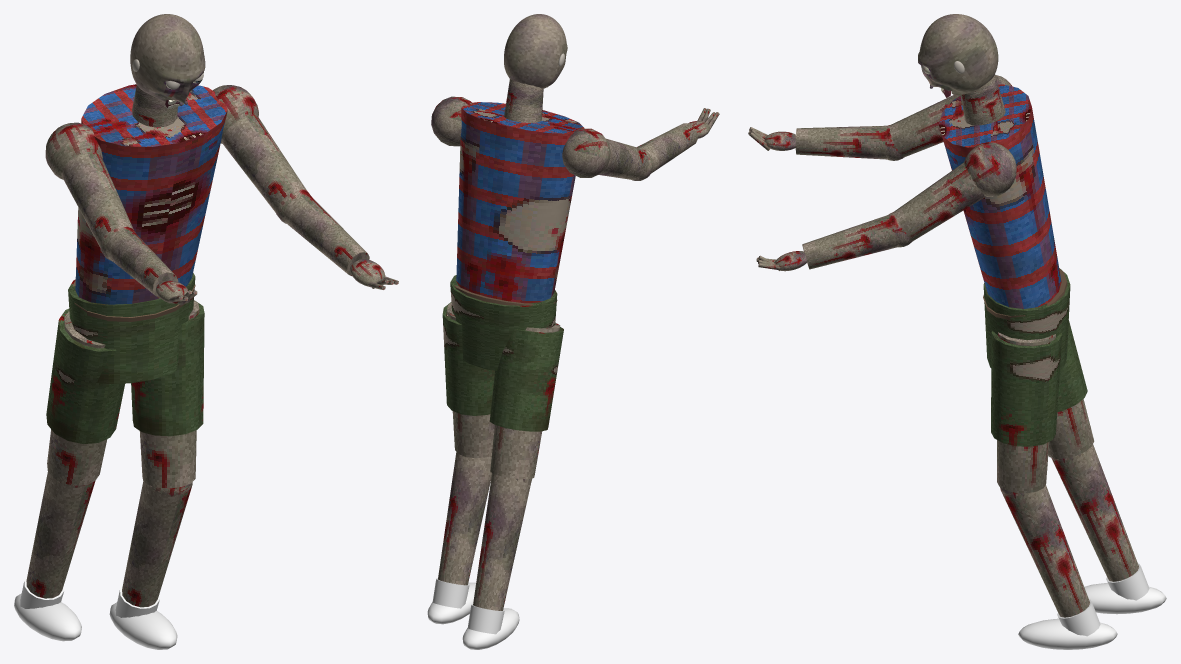
Rendered from Zombie_064.glb.
The picture shows the model from 3 angles, left to right: view 1: azimuth 30°, elevation 25°; view 2: azimuth 150°, elevation 25°; view 3: azimuth 270°, elevation 25°; orthographic projection. The views are drawn at different scales.
Visible parts, largest first — view 1: Zombie_064, object 16, object 10, object 3, object 11; view 2: Zombie_064, object 16, object 3; view 3: Zombie_064, object 16, object 10, object 3.
Boxes of the visible parts, x1=… form: Zombie_064: x1=14, y1=84, x2=306, y2=649; object 16: x1=130, y1=14, x2=205, y2=103; object 10: x1=283, y1=194, x2=369, y2=276; object 3: x1=105, y1=229, x2=178, y2=298; object 11: x1=350, y1=259, x2=385, y2=285; Zombie_064: x1=427, y1=79, x2=649, y2=649; object 16: x1=504, y1=14, x2=567, y2=88; object 3: x1=637, y1=123, x2=697, y2=173; Zombie_064: x1=889, y1=74, x2=1166, y2=649; object 16: x1=918, y1=14, x2=998, y2=95; object 10: x1=802, y1=215, x2=897, y2=269; object 3: x1=795, y1=125, x2=886, y2=159.
Size of the model in its own units: 0.6088 by 1.72 by 1.06.
15 materials, 5 textured.
